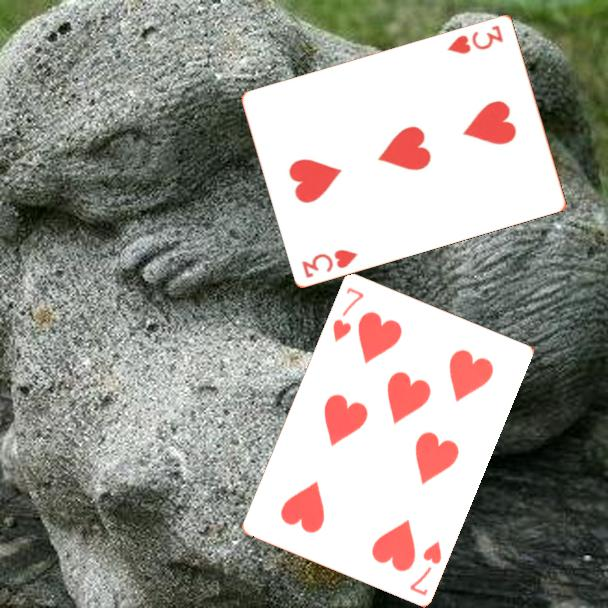h03: (298, 245, 361, 281), (444, 21, 506, 57)
h07: (329, 283, 367, 345), (406, 537, 444, 598)
